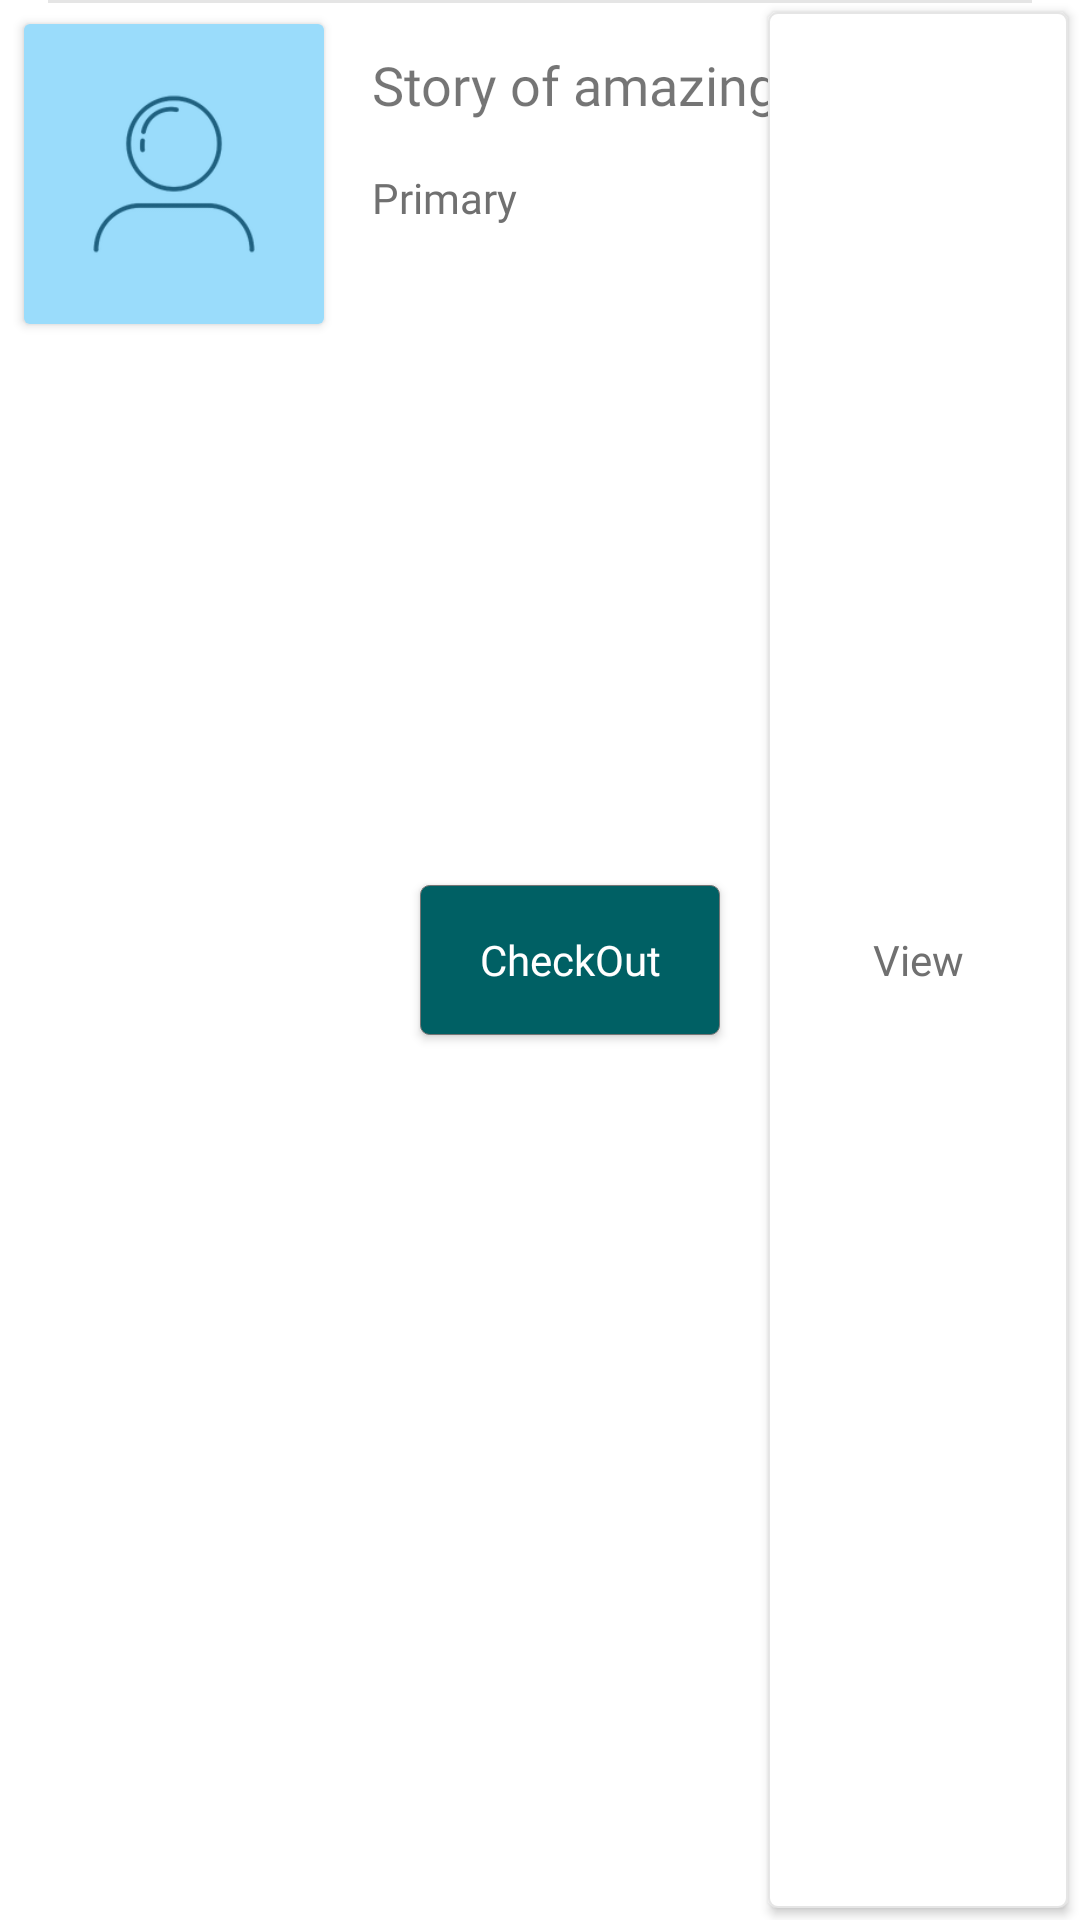

Icons on this 1080px×1920px Android screen, each with the point to tap as [x,y]:
profile: [174,174]
